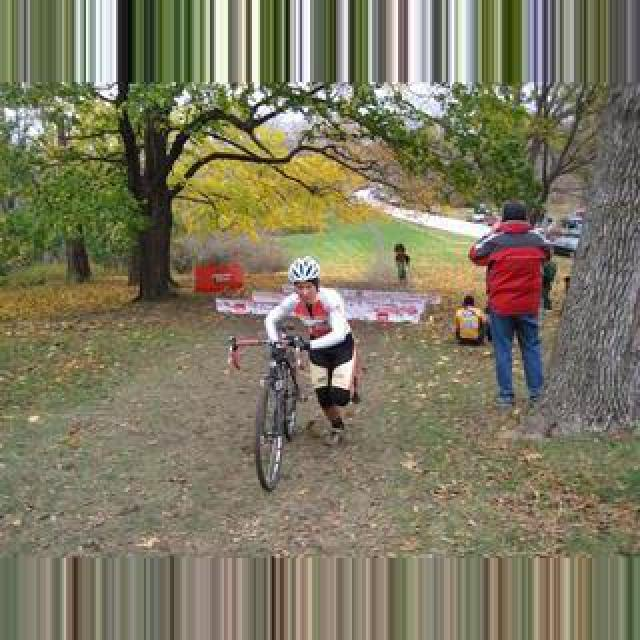MC-Bike: (468, 198, 554, 418), (260, 256, 358, 444), (454, 294, 488, 344), (394, 242, 412, 282)
Person: (231, 334, 313, 492)
